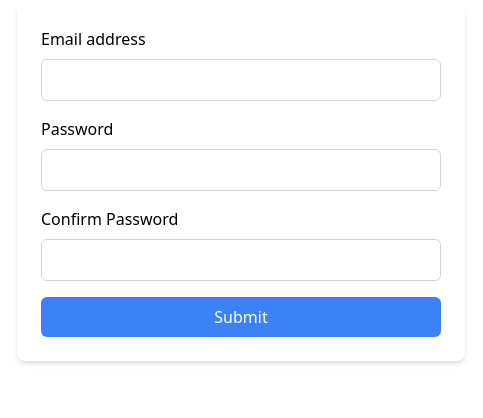
05-form-testing › should show password error if passwords don't match
Check: the text "Passwords do not match" is not shown
In the field labelled "Email address": (241, 80) [41,59,441,101], type "test@mail.com"
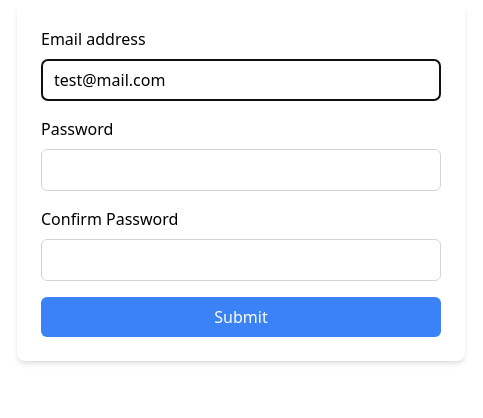
In the password field labelled "Password": (241, 170) [41,149,441,191], type "password"
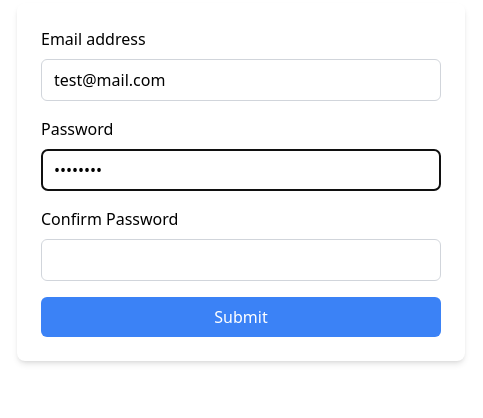
In the password field labelled "Confirm Password": (241, 260) [41,239,441,281], type "password1245"
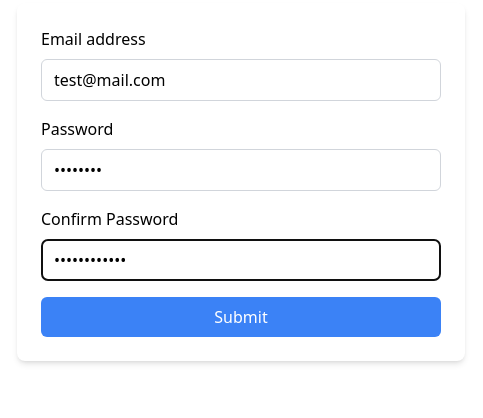
Click the button "Submit": (241, 317) [41,297,441,337]
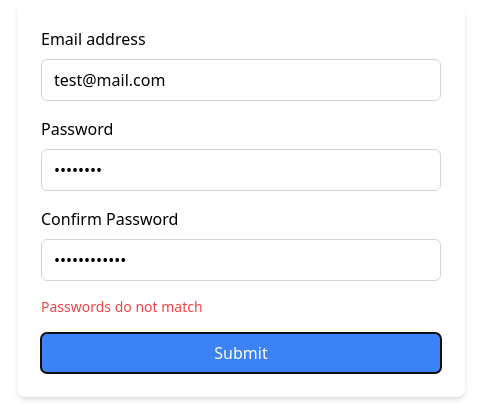
Check: the text "Passwords do not match" is shown, box [41,297,203,316]
